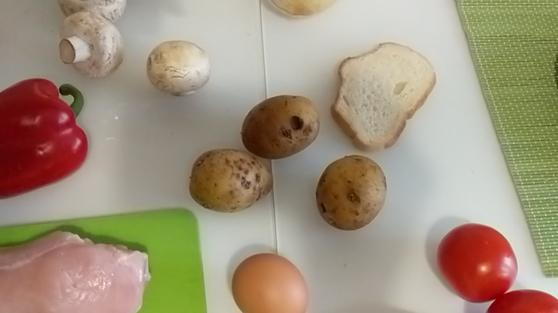champignon: (62, 9, 132, 83), (147, 41, 214, 98)
chicken_fillet: (1, 225, 162, 313)
egg: (227, 250, 309, 313)
pepper: (5, 74, 90, 197)
potato: (187, 149, 280, 210), (317, 156, 390, 232), (245, 95, 323, 161)
tomato: (439, 225, 517, 300)
white_bread: (335, 41, 436, 150)
